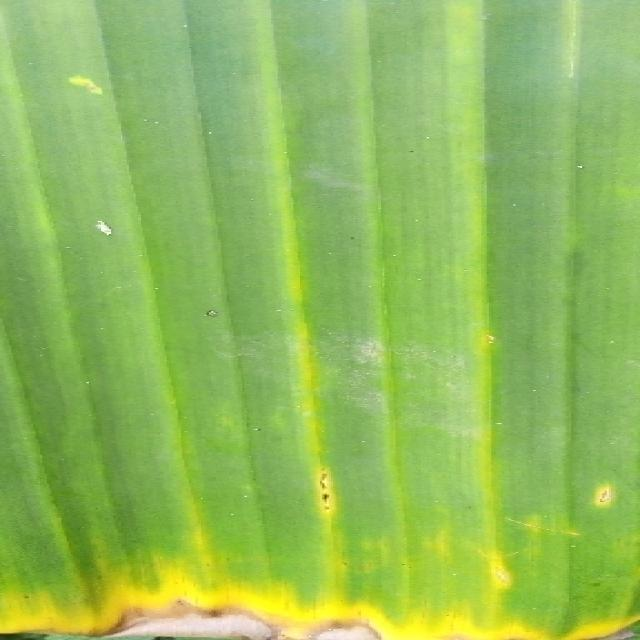Cordana: (0, 192, 640, 640), (44, 65, 168, 119)
